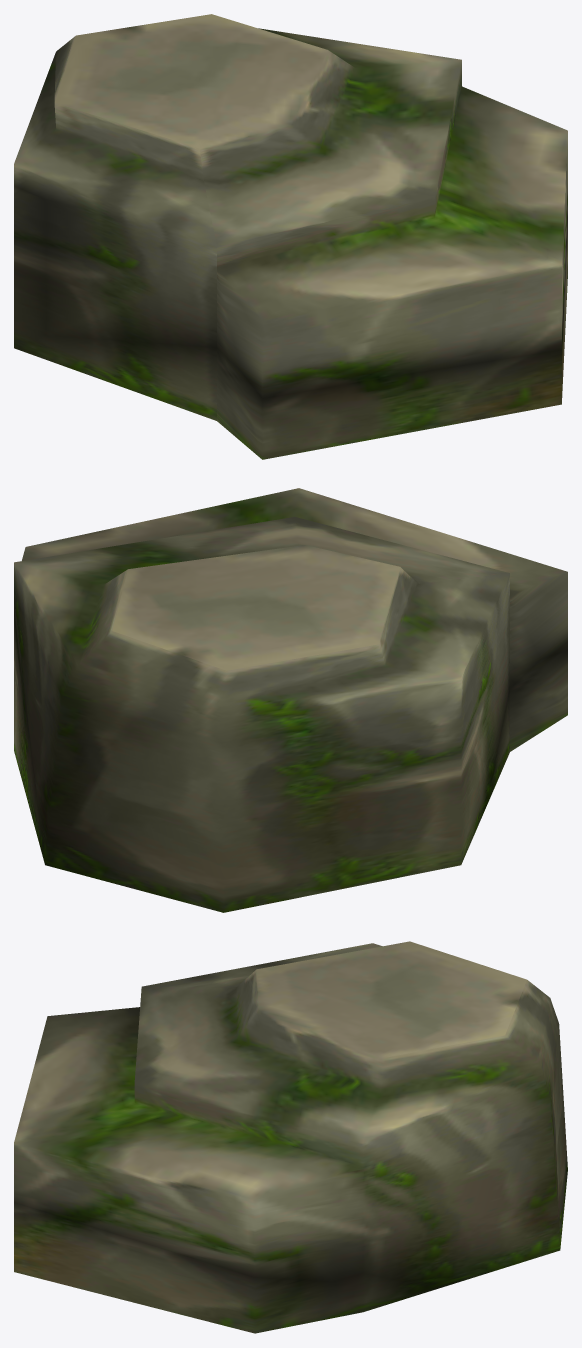
File: RockFormation_4_5 (10).fbx
3 views of the same model, one above another, from view 1: azimuth 30°, elevation 25°; view 2: azimuth 150°, elevation 25°; view 3: azimuth 270°, elevation 25° (orthographic). The views are drawn at different scales.
Visible parts, largest first — view 1: RockFormation_4_5 (10); view 2: RockFormation_4_5 (10); view 3: RockFormation_4_5 (10).
Part boxes in pixels (x1=…): RockFormation_4_5 (10): x1=14, y1=14, x2=567, y2=459; RockFormation_4_5 (10): x1=14, y1=488, x2=567, y2=912; RockFormation_4_5 (10): x1=14, y1=941, x2=567, y2=1333.
Bounding box in the file's own units: 478 × 201 × 507.
